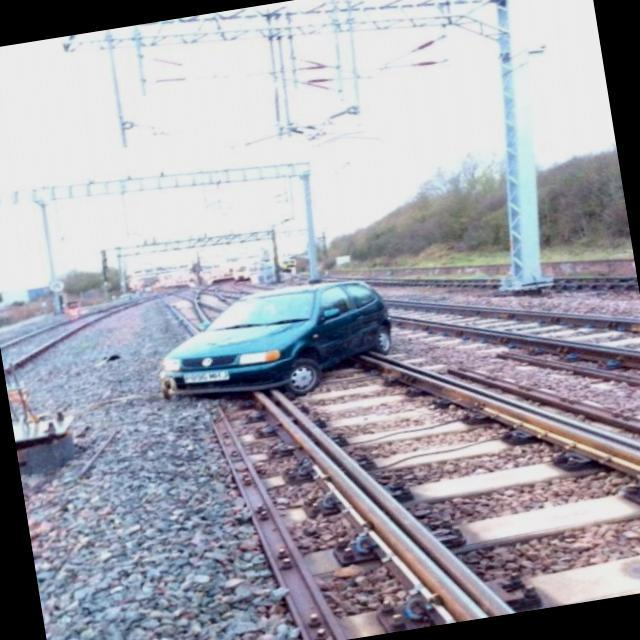danger: (150, 275, 405, 409)
rail: (152, 285, 640, 640), (218, 280, 640, 388), (0, 290, 158, 385)
